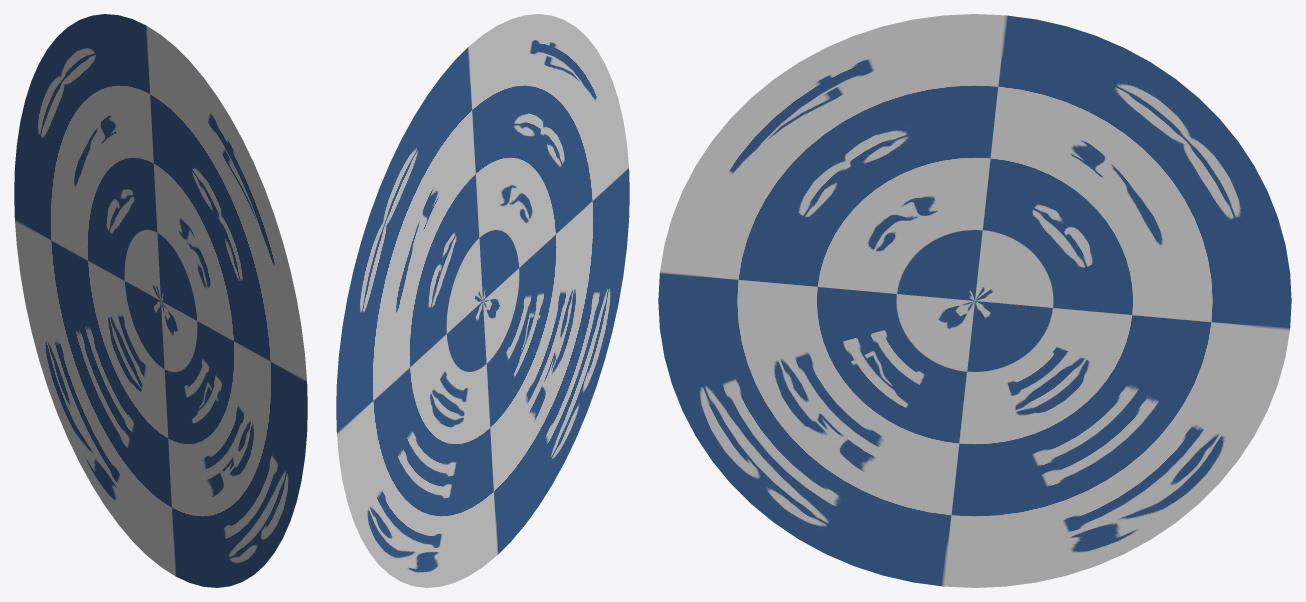
File: Enmu_Ring1.fbx
The picture shows the model from 3 angles, left to right: view 1: azimuth 30°, elevation 25°; view 2: azimuth 150°, elevation 25°; view 3: azimuth 270°, elevation 25°; orthographic projection. The views are drawn at different scales.
Visible parts, largest first — view 1: SM_e_Plc_P1011_Ring001; view 2: SM_e_Plc_P1011_Ring001; view 3: SM_e_Plc_P1011_Ring001.
Boxes of the visible parts, <box> form: SM_e_Plc_P1011_Ring001: <box>14,14,307,587</box>; SM_e_Plc_P1011_Ring001: <box>336,14,629,587</box>; SM_e_Plc_P1011_Ring001: <box>658,14,1291,587</box>.
Bounding box in the file's own units: 0 × 97.46 × 97.46.
